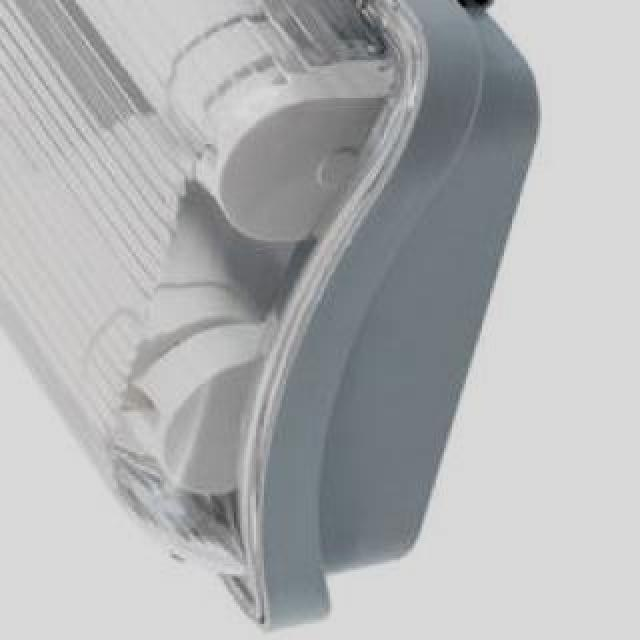fluorescent tube: (0, 0, 308, 532), (0, 0, 384, 252)
